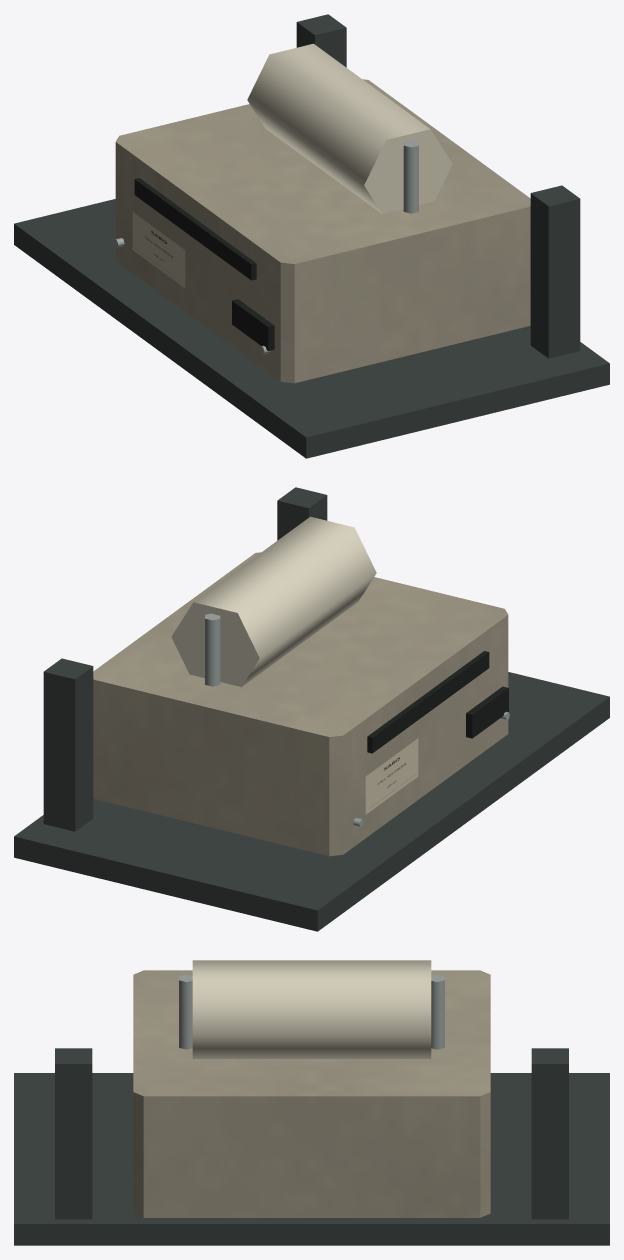
Rendered from SM_ArchiveProps_CallRecorder_LOD2.fbx.
The picture shows the model from 3 angles, top to bottom: view 1: azimuth 30°, elevation 25°; view 2: azimuth 150°, elevation 25°; view 3: azimuth 270°, elevation 25°; orthographic projection.
Visible parts, largest first — view 1: SM_ArchiveProps_CallRecorder_LOD2; view 2: SM_ArchiveProps_CallRecorder_LOD2; view 3: SM_ArchiveProps_CallRecorder_LOD2.
Boxes of the visible parts, x1=… form: SM_ArchiveProps_CallRecorder_LOD2: x1=14, y1=14, x2=609, y2=458; SM_ArchiveProps_CallRecorder_LOD2: x1=14, y1=487, x2=609, y2=931; SM_ArchiveProps_CallRecorder_LOD2: x1=14, y1=960, x2=609, y2=1245.
Bounding box in the file's own units: 0.24 × 0.4 × 0.1613.
